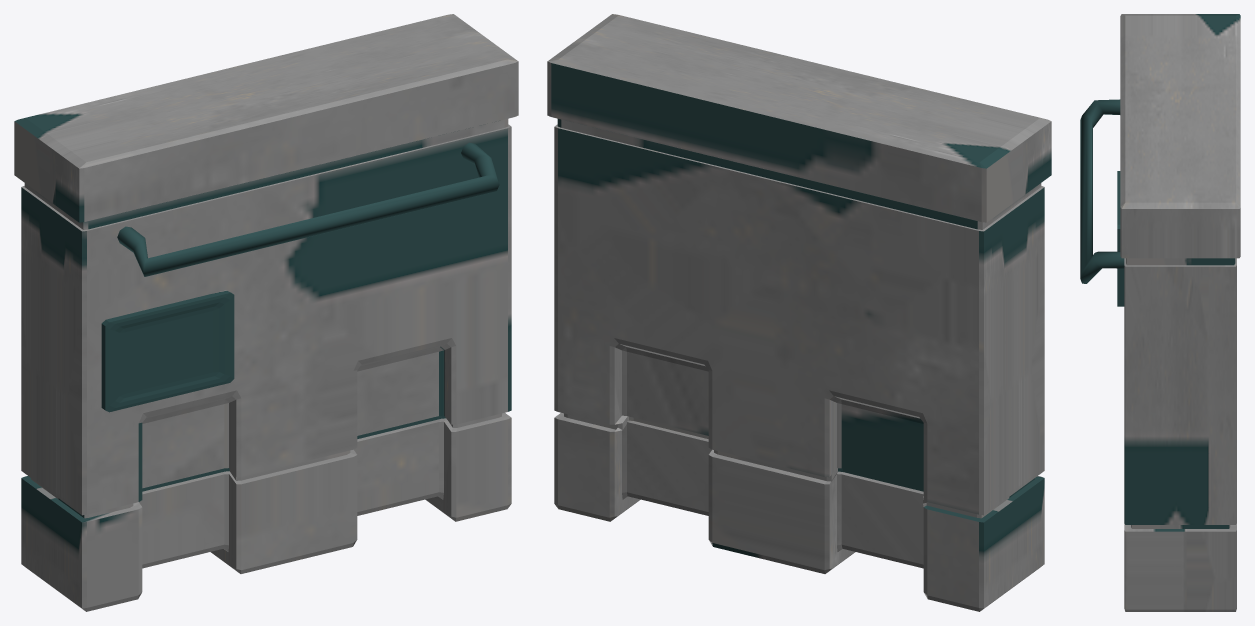
The model's file is Wall3_Ver2.fbx.
3 views of the same model, side by side, from view 1: azimuth 30°, elevation 25°; view 2: azimuth 150°, elevation 25°; view 3: azimuth 270°, elevation 25° (orthographic). The views are drawn at different scales.
Visible parts, largest first — view 1: Circle; view 2: Circle; view 3: Circle.
Part boxes in pixels (bbox=[...]): Circle: bbox=[14, 14, 518, 611]; Circle: bbox=[547, 14, 1051, 611]; Circle: bbox=[1080, 14, 1240, 611].
Bounding box in the file's own units: 1022 × 1000 × 356.
